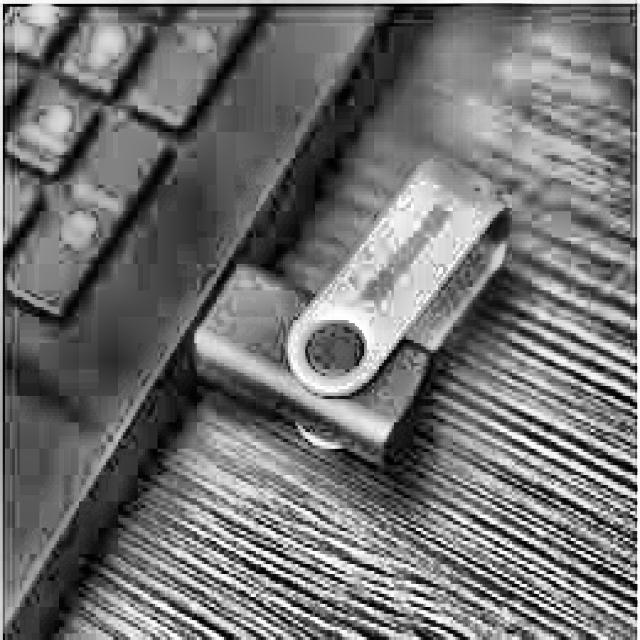Mug: (188, 254, 470, 490)
